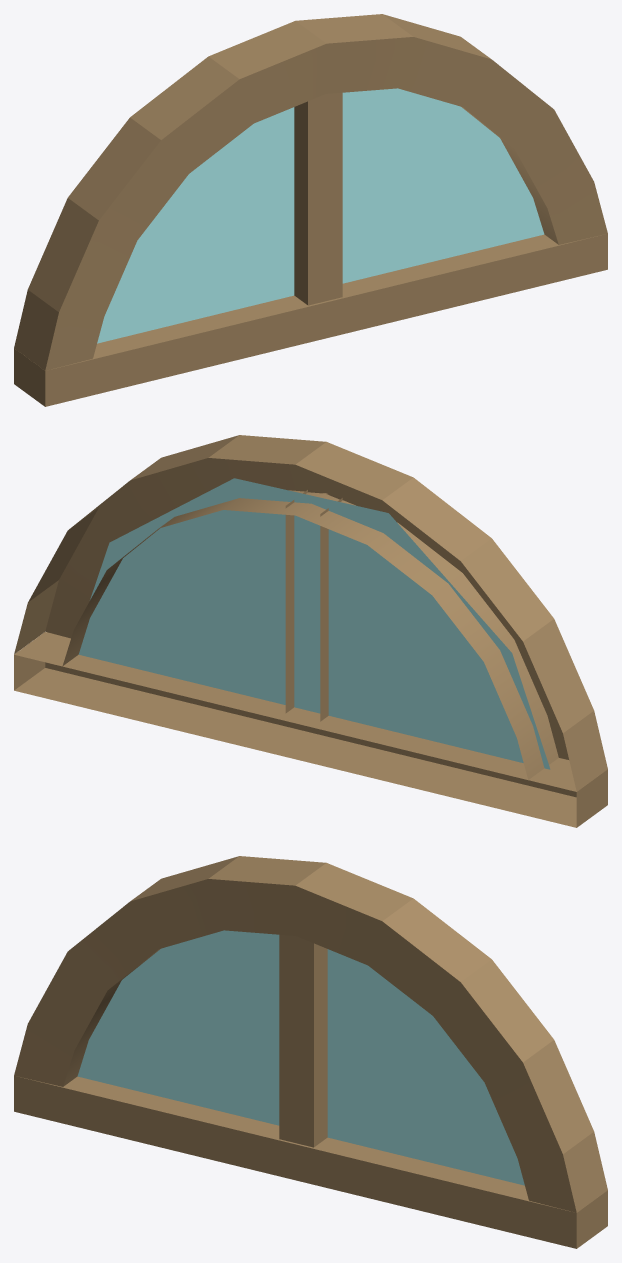
The model's file is WINDOW_HALFCIRCLE_100x50.fbx.
The picture shows the model from 3 angles, top to bottom: view 1: azimuth 30°, elevation 25°; view 2: azimuth 150°, elevation 25°; view 3: azimuth 330°, elevation 25°; orthographic projection.
Visible parts, largest first — view 1: WINDOW_HALFCIRCLE_100x50; view 2: WINDOW_HALFCIRCLE_100x50; view 3: WINDOW_HALFCIRCLE_100x50.
Boxes of the visible parts, x1=… form: WINDOW_HALFCIRCLE_100x50: x1=14, y1=14, x2=607, y2=406; WINDOW_HALFCIRCLE_100x50: x1=14, y1=435, x2=607, y2=827; WINDOW_HALFCIRCLE_100x50: x1=14, y1=856, x2=607, y2=1248.
Size of the model in its own units: 99.72 by 49.9 by 9.59.
